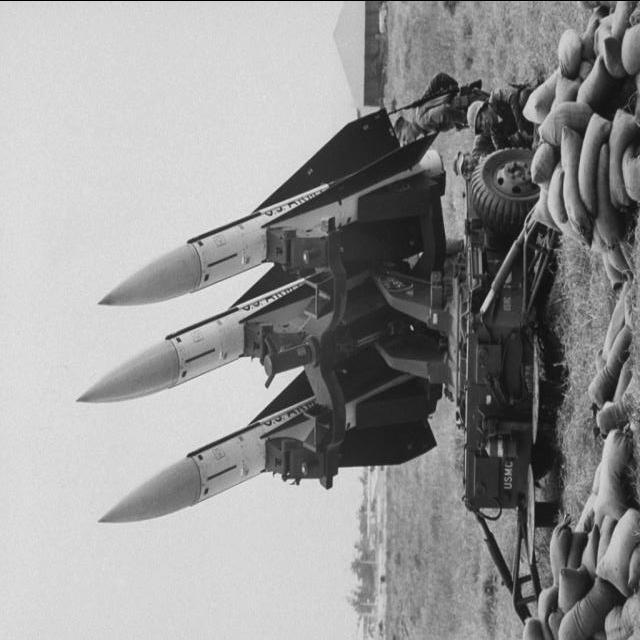missile: (96, 418, 278, 523), (98, 203, 274, 311), (74, 302, 248, 404)
